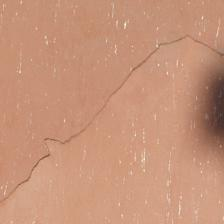Crack: (76, 46, 224, 79), (31, 96, 132, 128)
